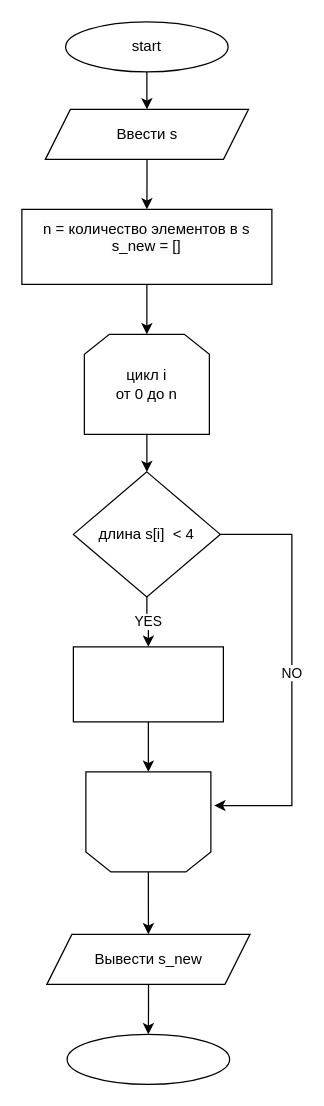
Some shapes in this 324 by 1106 pixel diagram are drawn without their labels. The centre of each missing label's shape, as x and y in pixels:
end: (148,1058)
добавить строку s[i] в список s_new: (147,684)
Увеличить i на 1 Цикл i: (148,821)
